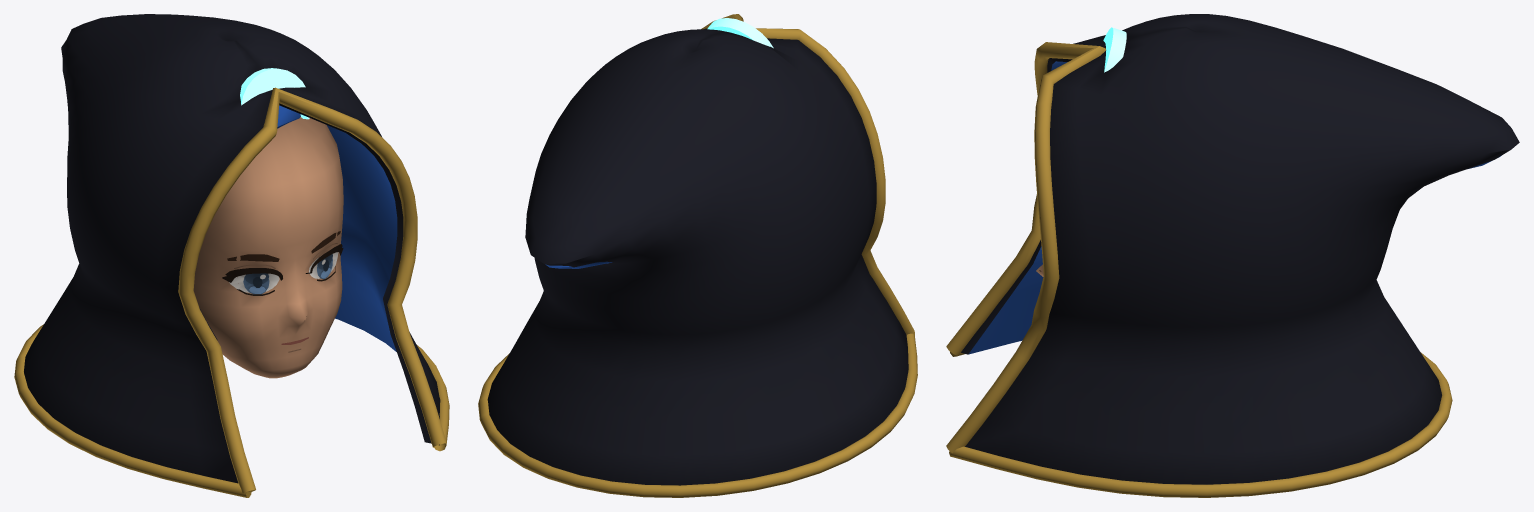
Rendered from h_void.glb.
3 renders of one model, left to right at view 1: azimuth 30°, elevation 25°; view 2: azimuth 150°, elevation 25°; view 3: azimuth 270°, elevation 25°, orthographic. The views are drawn at different scales.
Parts seen in each view (by area): view 1: Hood, HeadMesh, LashR; view 2: Hood; view 3: Hood.
Part boxes in pixels (x1,y1,x2,y2): Hood: [14, 14, 449, 497]; HeadMesh: [193, 117, 343, 378]; LashR: [222, 268, 282, 295]; Hood: [478, 14, 917, 497]; Hood: [946, 14, 1519, 497].
Bounding box in the file's own units: 0.3768 × 0.3547 × 0.4861.
